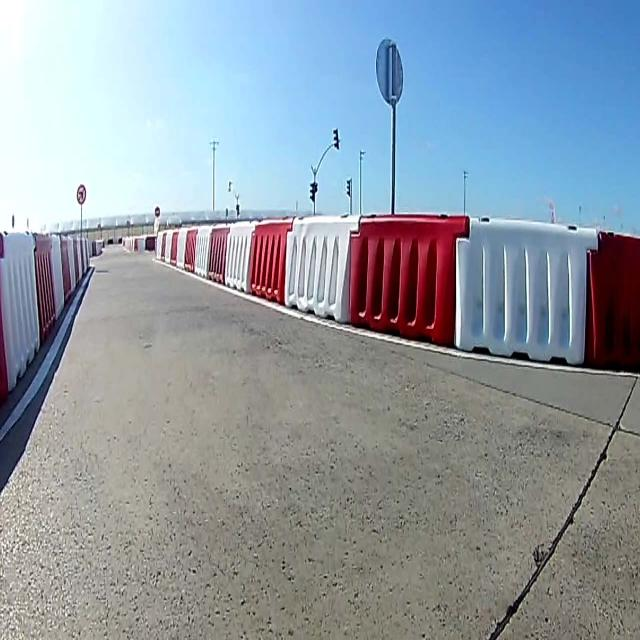soladonulmez: (76, 184, 86, 203)
